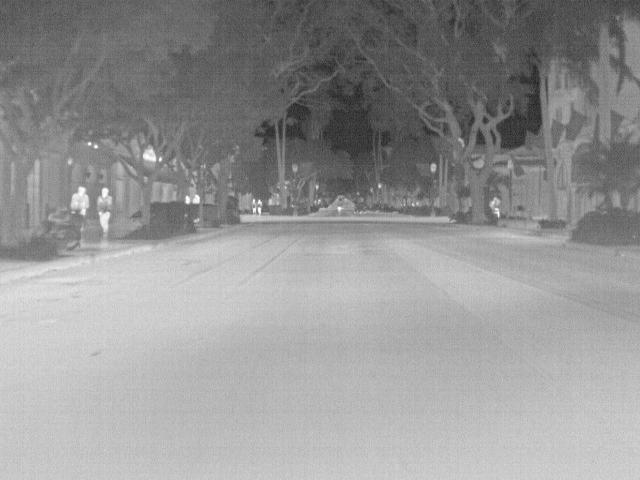car: (355, 204, 369, 216)
person: (98, 185, 114, 241), (71, 184, 91, 216), (492, 197, 503, 217), (251, 196, 257, 215), (256, 199, 264, 212), (183, 195, 193, 204), (193, 194, 200, 205)
